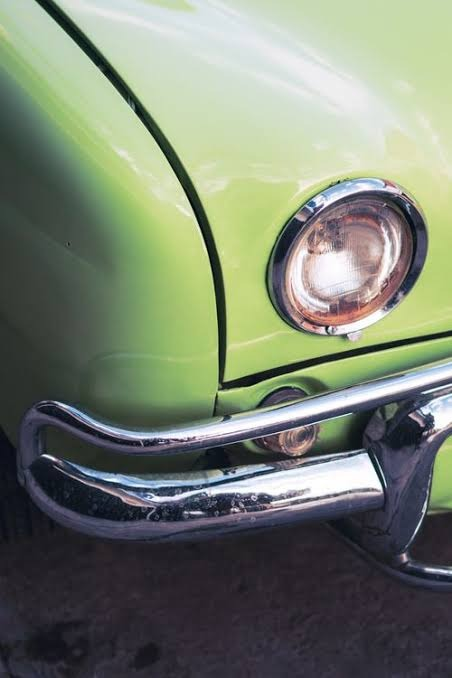car: (1, 1, 452, 568)
